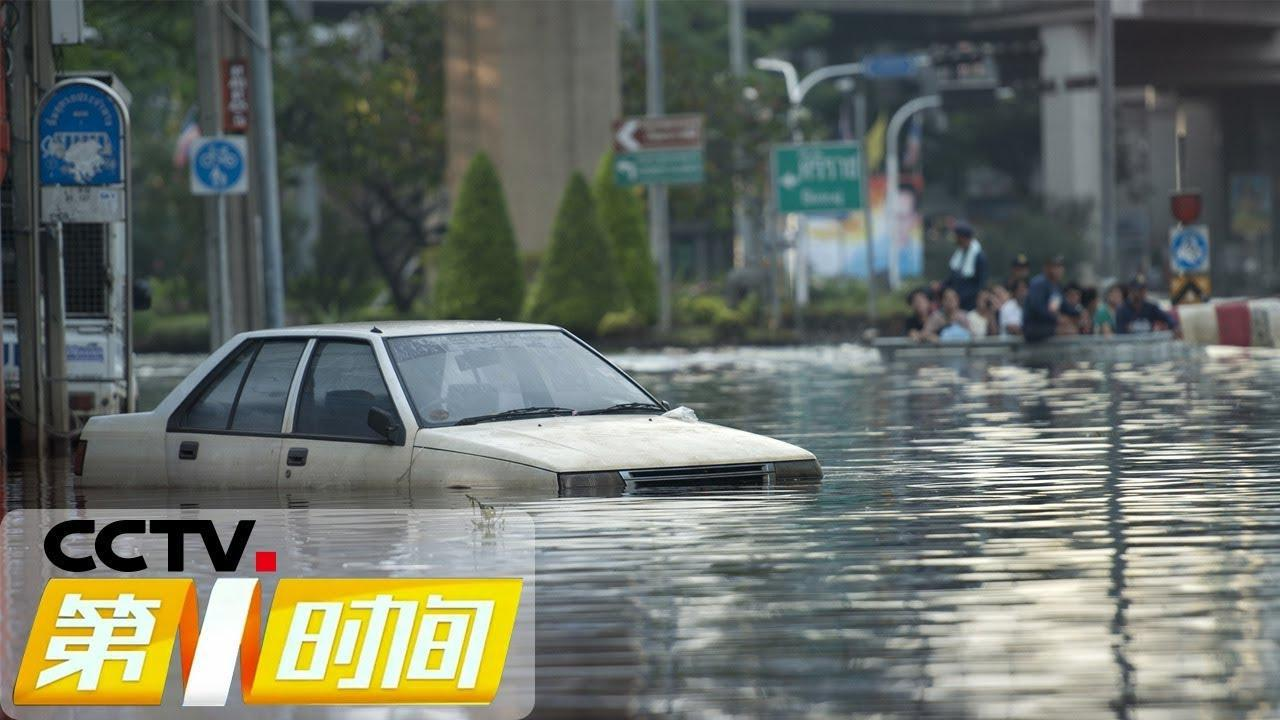water: (529, 345, 1279, 719), (131, 354, 208, 409), (6, 423, 31, 509)
